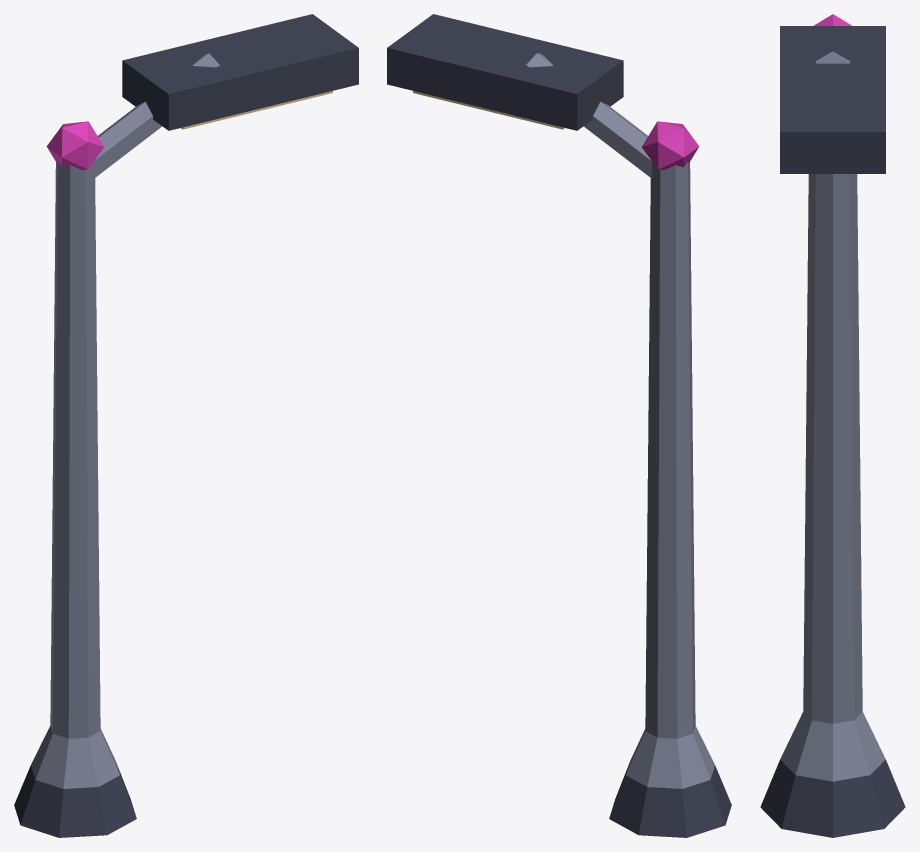
File: street_lamp_neon.glb
3 renders of one model, left to right at view 1: azimuth 30°, elevation 25°; view 2: azimuth 150°, elevation 25°; view 3: azimuth 270°, elevation 25°, orthographic. The views are drawn at different scales.
Parts seen in each view (by area): view 1: street_lamp_neon; view 2: street_lamp_neon; view 3: street_lamp_neon.
Boxes of the visible parts, x1=… form: street_lamp_neon: x1=14, y1=14, x2=358, y2=837; street_lamp_neon: x1=387, y1=14, x2=731, y2=837; street_lamp_neon: x1=760, y1=14, x2=905, y2=837.
Size of the model in its own units: 0.63 by 1.39 by 0.22.
